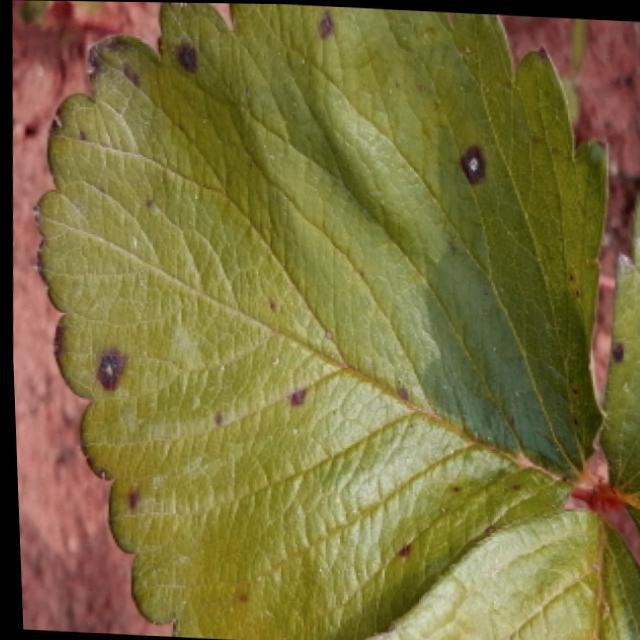Leaf Spot: (29, 2, 609, 640), (353, 501, 640, 640), (594, 168, 640, 546)
